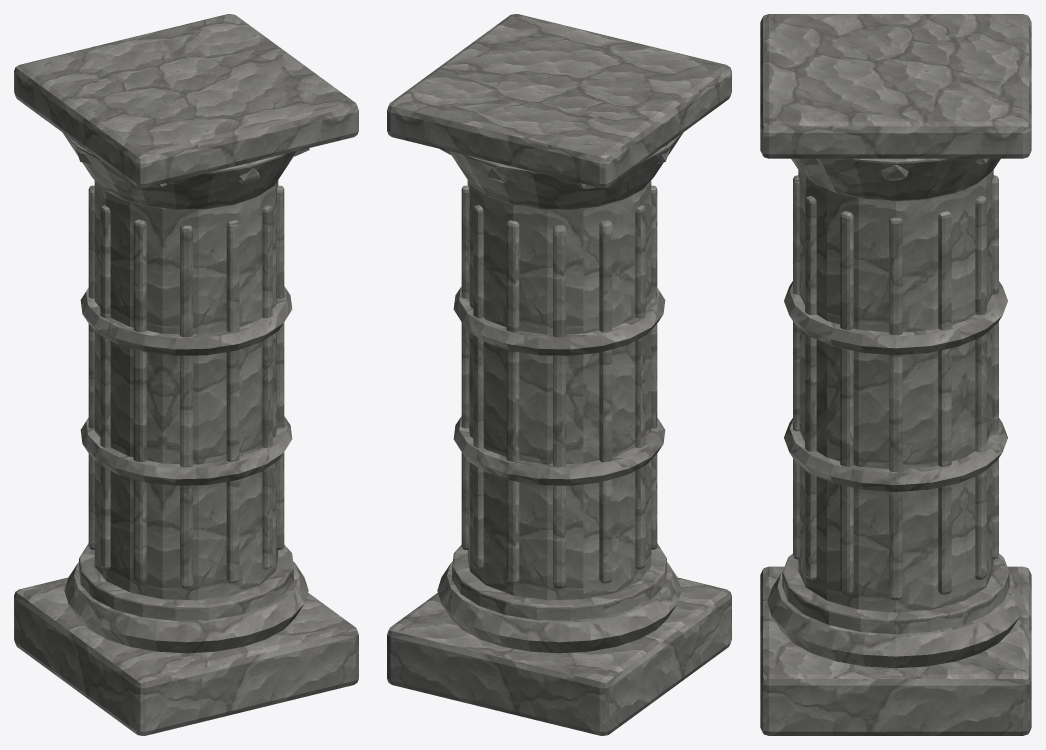
The model's file is column__copper_ingot.glb.
3 renders of one model, left to right at view 1: azimuth 30°, elevation 25°; view 2: azimuth 150°, elevation 25°; view 3: azimuth 270°, elevation 25°, orthographic. The views are drawn at different scales.
Visible parts, largest first — view 1: model; view 2: model; view 3: model.
Boxes of the visible parts, x1,y1,x2,y2 form: model: [14, 14, 358, 735]; model: [387, 14, 731, 735]; model: [760, 14, 1031, 735].
Bounding box in the file's own units: 0.8 × 2 × 0.8.
1 material, 1 textured.
